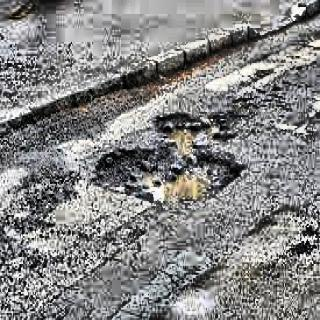alligator-crack: (0, 222, 80, 320)
pothole: (92, 151, 245, 213), (148, 102, 247, 143)
